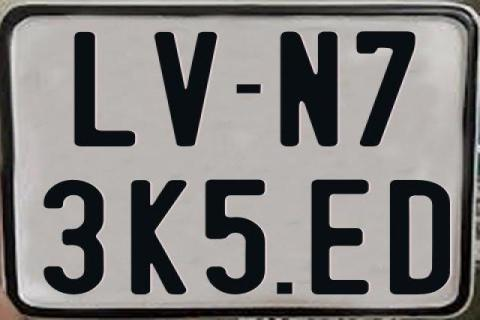0: (40, 177, 107, 297), (202, 177, 268, 296), (355, 32, 417, 152)
D: (390, 177, 452, 293)
E: (311, 179, 375, 296)
K: (128, 179, 186, 297)
L: (72, 32, 135, 147)
N: (277, 29, 338, 150)
V: (152, 31, 219, 148)
